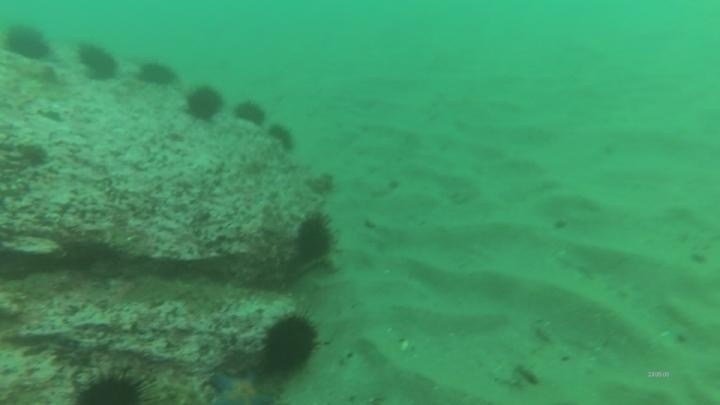echinus: (258, 309, 323, 379), (69, 364, 157, 404), (293, 211, 337, 265), (3, 21, 53, 64), (75, 40, 121, 83), (183, 83, 225, 123), (135, 58, 179, 90), (265, 121, 299, 155), (232, 98, 269, 129)
starfish: (208, 366, 277, 404)
